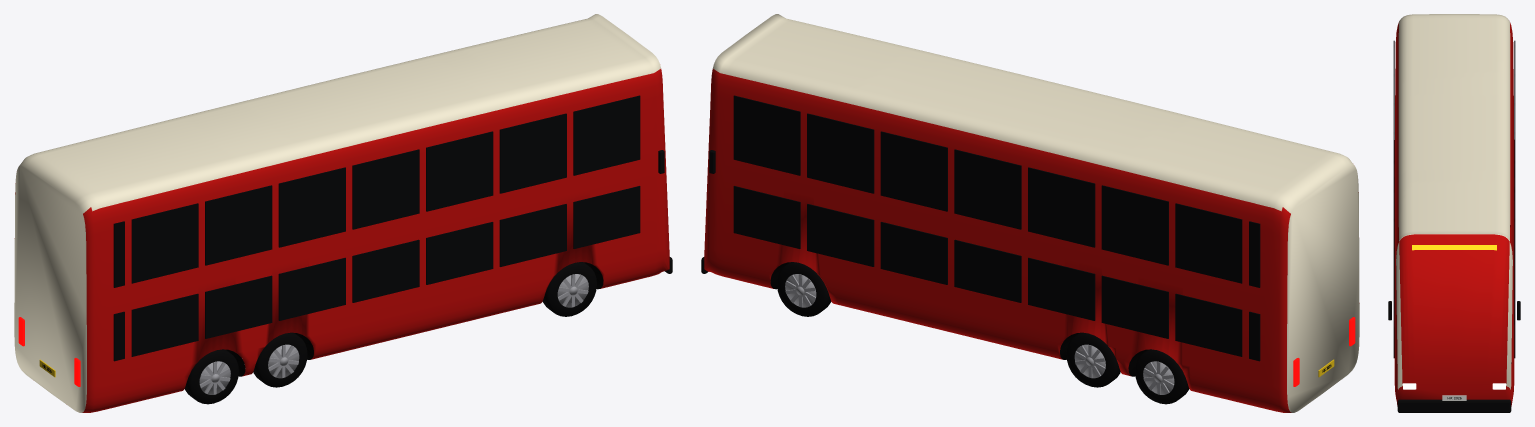
3 renders of one model, left to right at view 1: azimuth 30°, elevation 25°; view 2: azimuth 150°, elevation 25°; view 3: azimuth 270°, elevation 25°, orthographic. The views are drawn at different scales.
Parts seen in each view (by area): view 1: body, win.025, win.027, win.029, win.030, win.024, win.026, win.028, win.021, win.019, win.020, win.022 (+7 smaller); view 2: body, win.009, win.011, win.013, win.014, win.008, win.010, win.012, win.005, win.003, win.004, win.006 (+7 smaller); view 3: body, bumperF, dest, win.008, win.024, plate.
Part boxes in pixels (x1=…): body: x1=14, y1=14, x2=669, y2=412; win.025: x1=499, y1=113, x2=566, y2=193; win.027: x1=352, y1=149, x2=419, y2=229; win.029: x1=205, y1=185, x2=272, y2=265; win.030: x1=131, y1=203, x2=198, y2=283; win.024: x1=573, y1=95, x2=640, y2=175; win.026: x1=426, y1=131, x2=493, y2=211; win.028: x1=278, y1=167, x2=345, y2=247; win.021: x1=205, y1=275, x2=272, y2=338; win.019: x1=352, y1=239, x2=419, y2=302; win.020: x1=278, y1=257, x2=345, y2=320; win.022: x1=131, y1=293, x2=198, y2=356; body: x1=704, y1=14, x2=1359, y2=412; win.009: x1=807, y1=113, x2=874, y2=193; win.011: x1=954, y1=149, x2=1021, y2=229; win.013: x1=1101, y1=185, x2=1168, y2=265; win.014: x1=1175, y1=203, x2=1242, y2=283; win.008: x1=733, y1=95, x2=800, y2=175; win.010: x1=880, y1=131, x2=947, y2=211; win.012: x1=1028, y1=167, x2=1095, y2=247; win.005: x1=1101, y1=275, x2=1168, y2=338; win.003: x1=954, y1=239, x2=1021, y2=302; win.004: x1=1028, y1=257, x2=1095, y2=320; win.006: x1=1175, y1=293, x2=1242, y2=356; body: x1=1394, y1=14, x2=1514, y2=406; bumperF: x1=1397, y1=399, x2=1511, y2=412; dest: x1=1412, y1=245, x2=1496, y2=250; win.008: x1=1514, y1=221, x2=1515, y2=298; win.024: x1=1393, y1=221, x2=1394, y2=298; plate: x1=1442, y1=395, x2=1466, y2=400.
Size of the model in its own units: 11.67 by 4.44 by 2.8.
